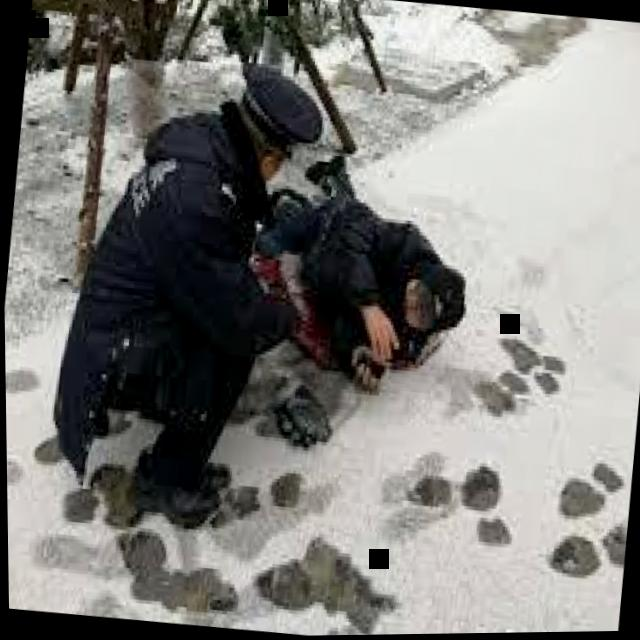Fall-Detected: (230, 116, 491, 387)
